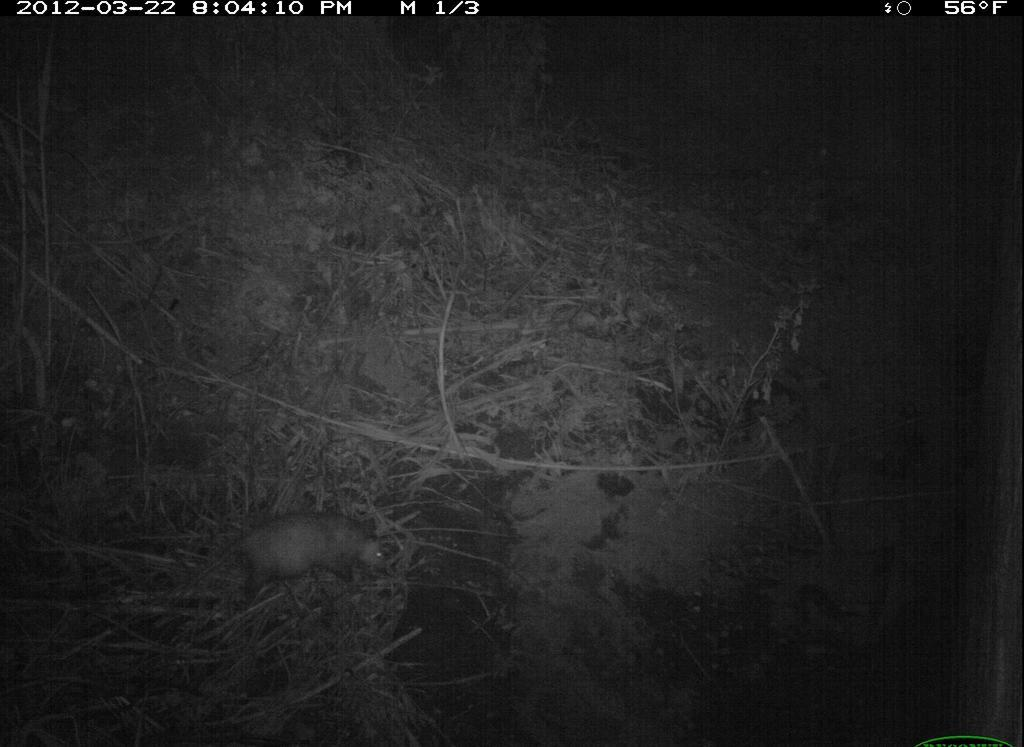opossum: (214, 500, 410, 606)
